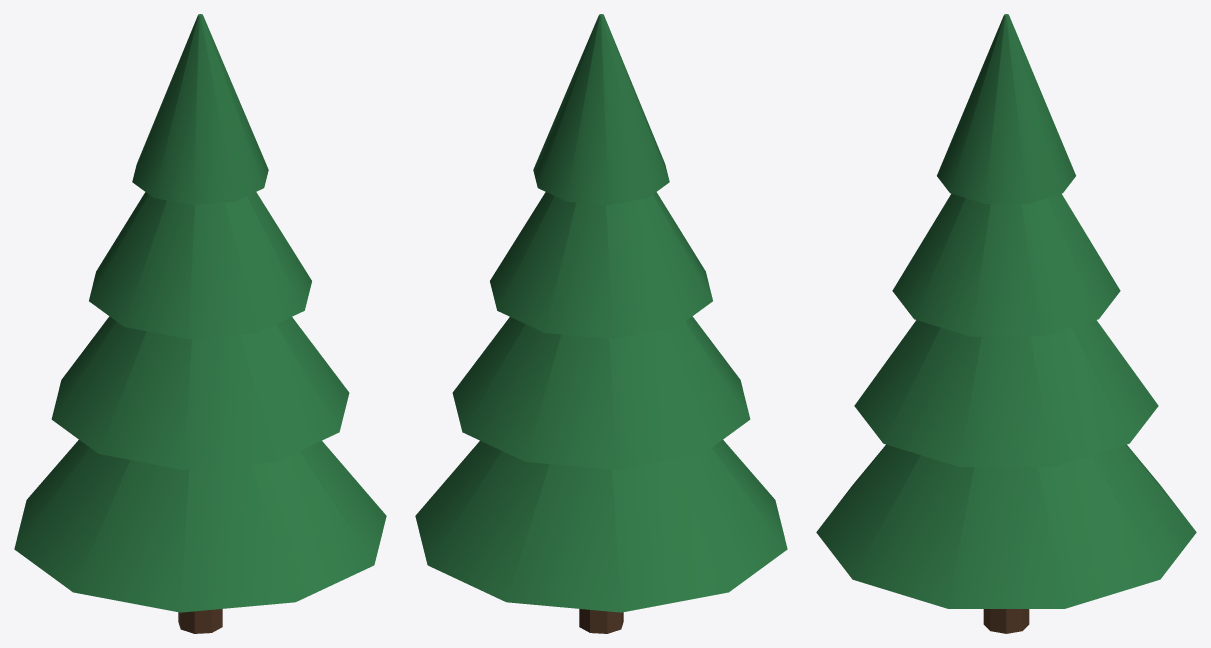
File: fir.glb
3 renders of one model, left to right at view 1: azimuth 30°, elevation 25°; view 2: azimuth 150°, elevation 25°; view 3: azimuth 270°, elevation 25°, orthographic.
Visible parts, largest first — view 1: Fir_Mesh; view 2: Fir_Mesh; view 3: Fir_Mesh.
Boxes of the visible parts, bbox=[...] form: Fir_Mesh: bbox=[14, 14, 386, 633]; Fir_Mesh: bbox=[415, 14, 787, 633]; Fir_Mesh: bbox=[816, 14, 1196, 633].
Size of the model in its own units: 2.85 by 5.3 by 3.
